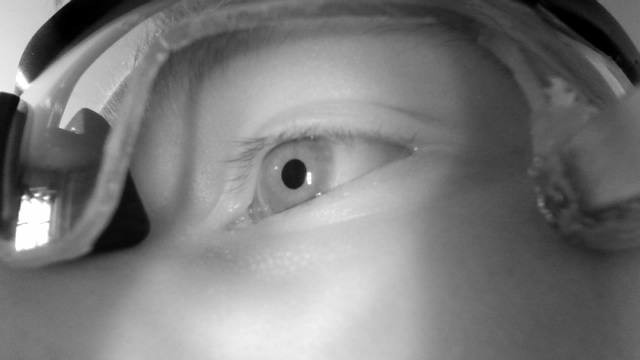pupil: (281, 158, 307, 190)
